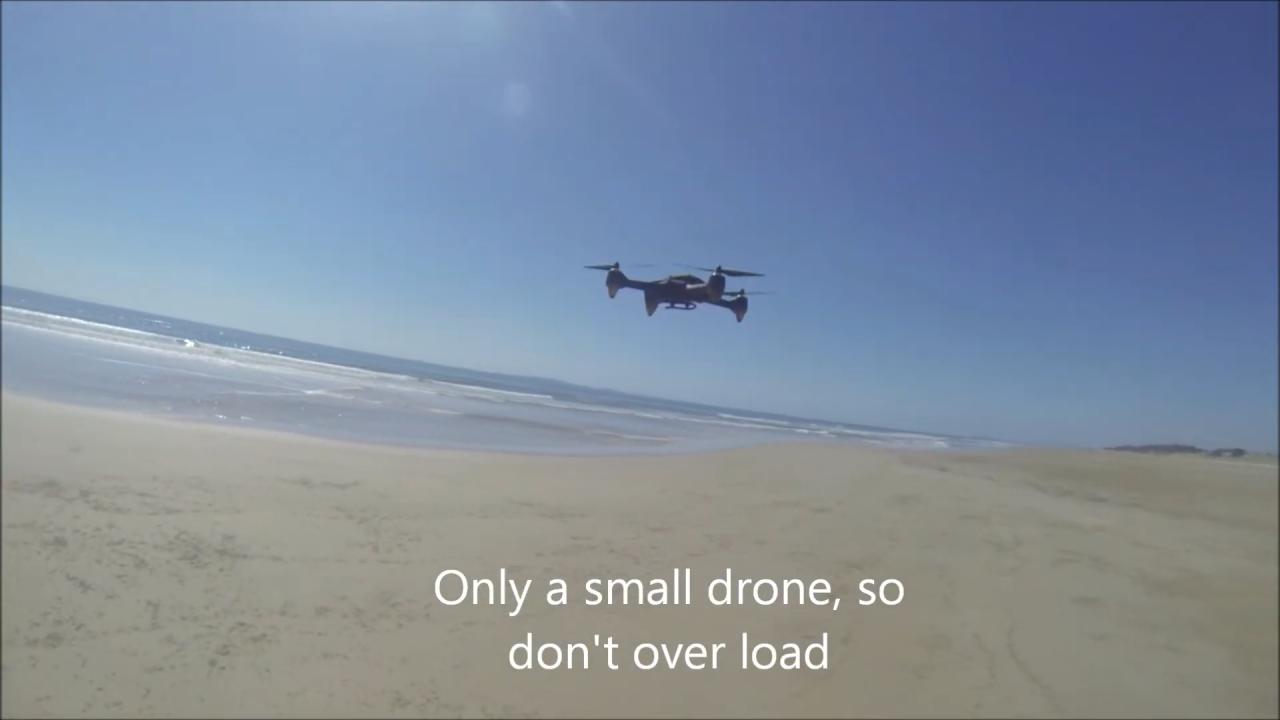Drone: (578, 247, 781, 335)
